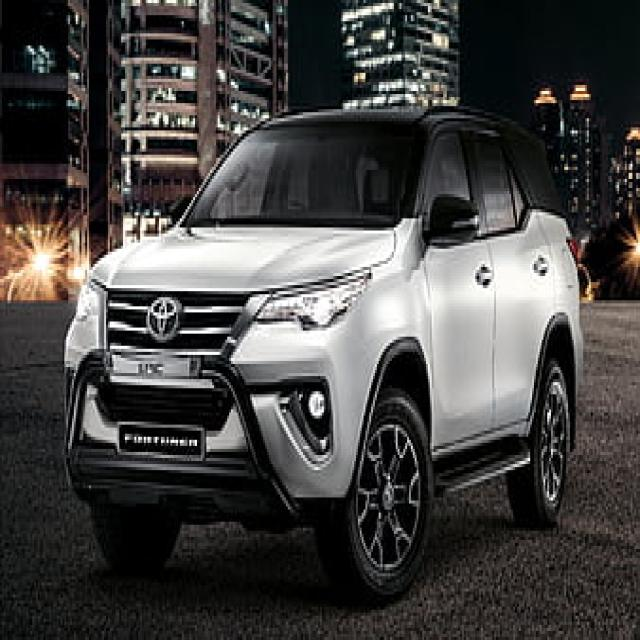light_vehicle: (62, 103, 586, 604)
